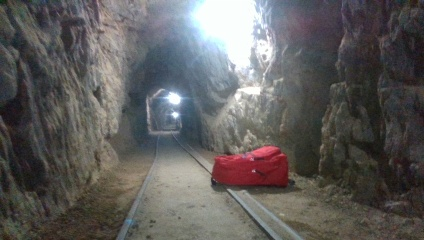backpack: (210, 145, 289, 189)
